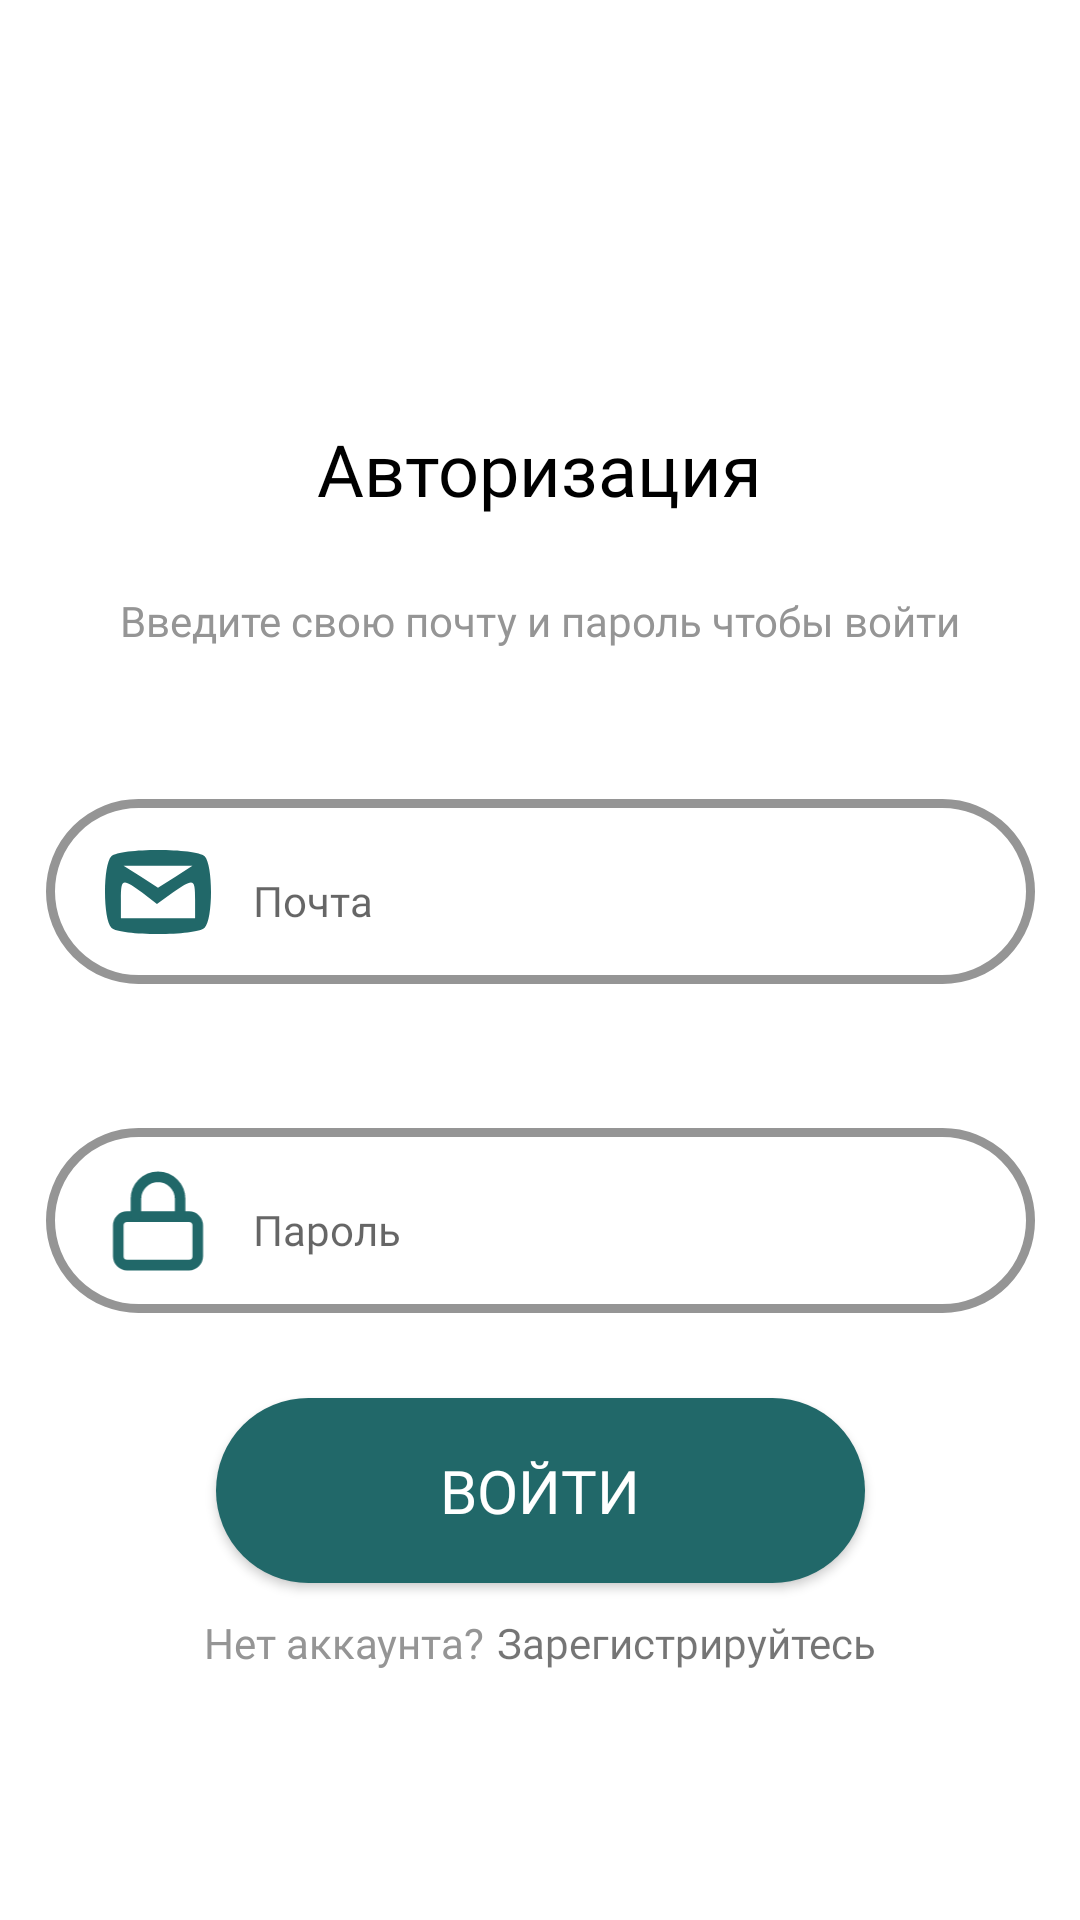

Screen size 1080 x 1920. Icon name, then its center in pixels as (x,y):
mail: (158,892)
password: (158,1221)
